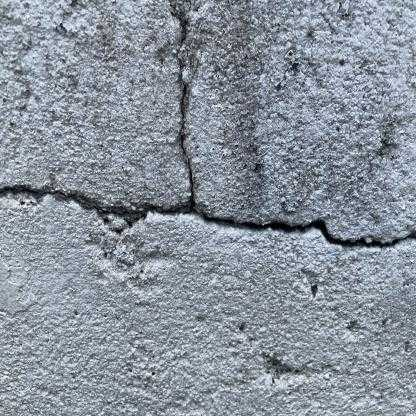crack: (0, 1, 415, 251)
